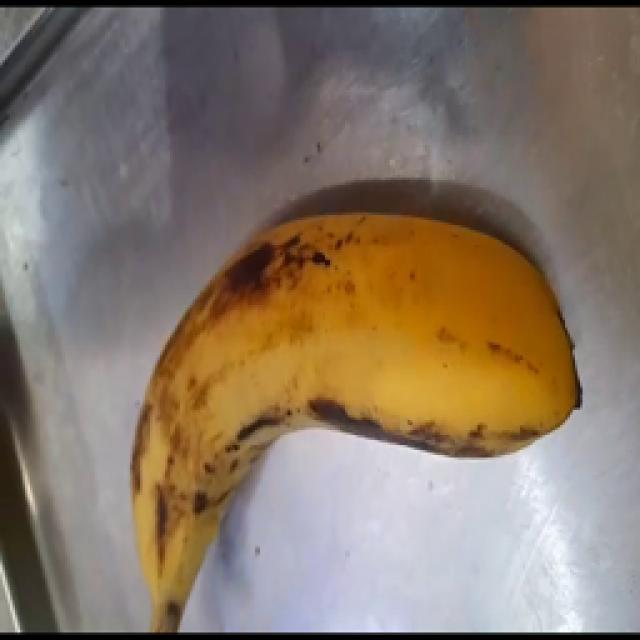Rotten_Banana: (134, 144, 598, 511)
